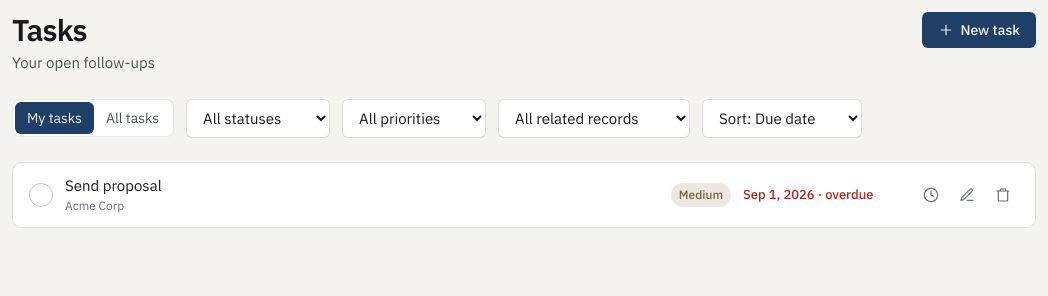
Test: TasksPage › filters › switches back to the personal scope from All tasks
Check: the text "Send proposal" is shown, box x1=65 y1=176 x2=162 y2=194
Click the button "All tasks" at (132, 118), box x1=94 y1=102 x2=171 y2=134
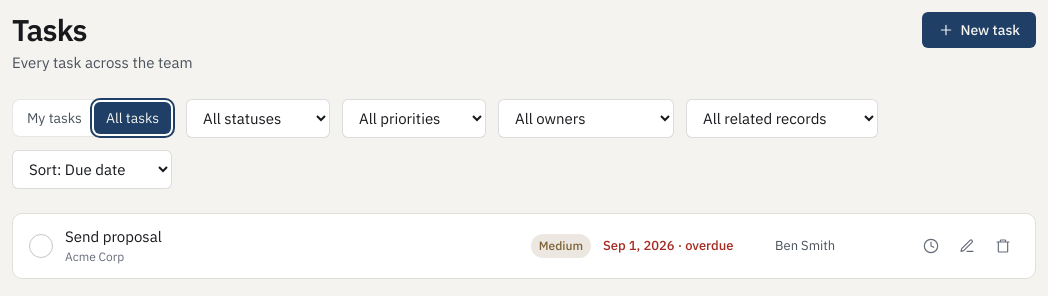
Click the button "My tasks" at (54, 118), box x1=15 y1=102 x2=94 y2=134
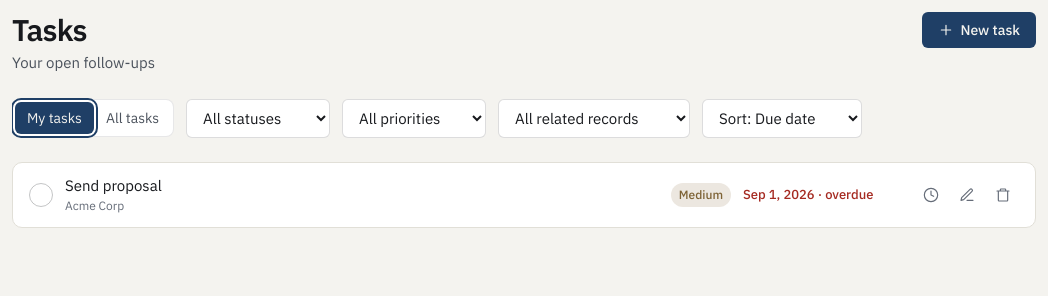
Check: the text "Your open follow-ups" is shown, box x1=12 y1=52 x2=155 y2=74
